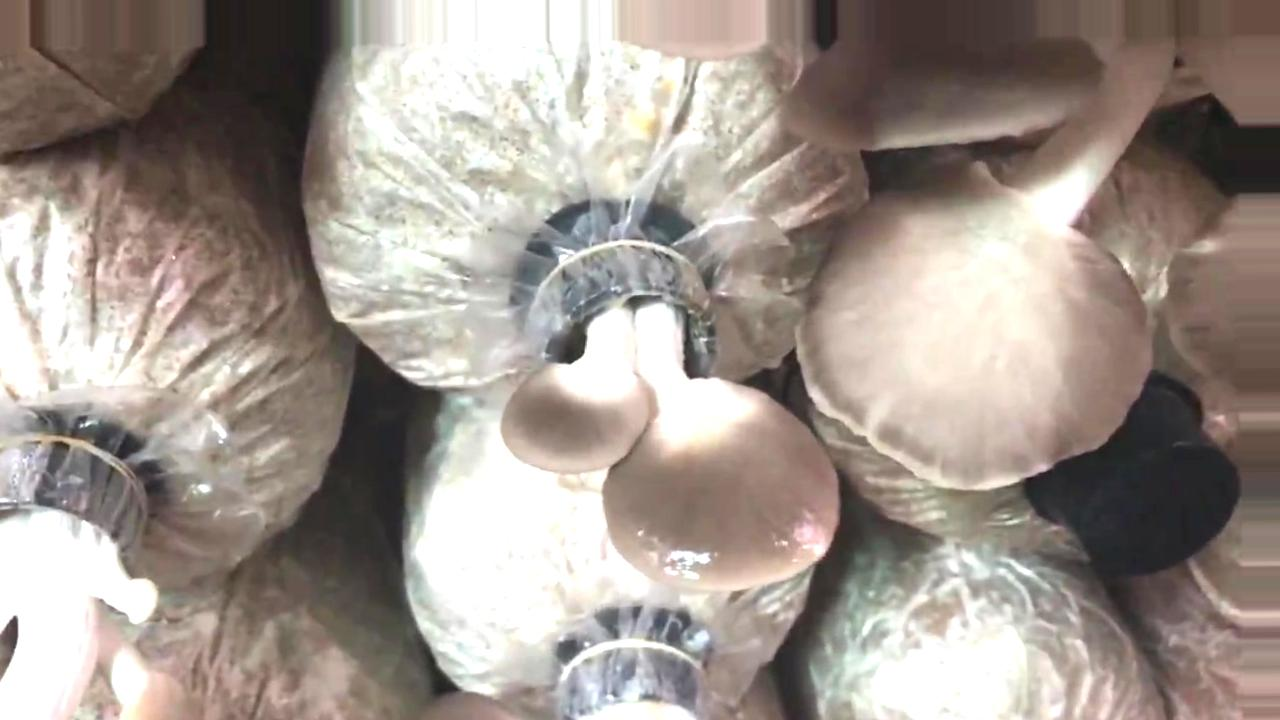nam: (777, 1, 1280, 493), (499, 237, 838, 596)
